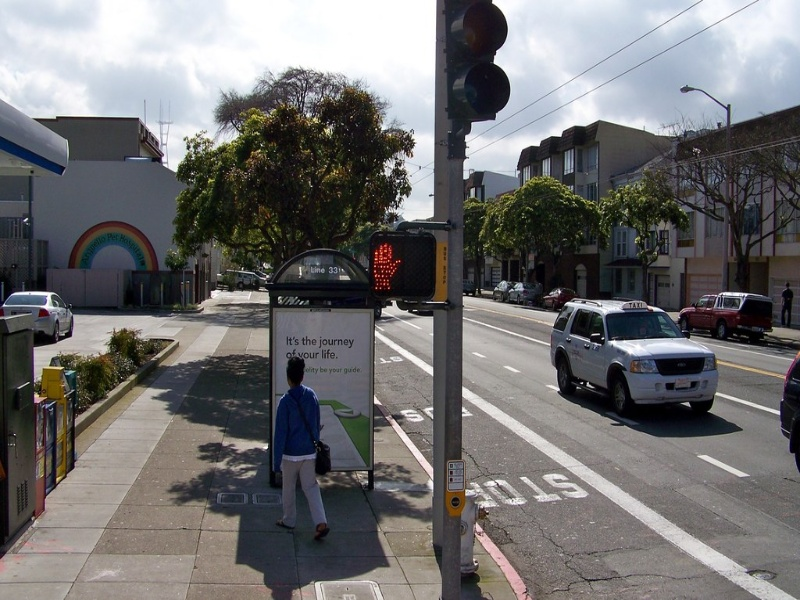red_light: (359, 218, 442, 330)
